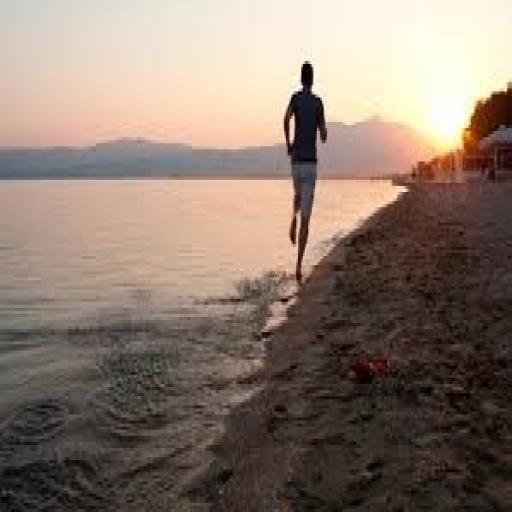running: (281, 55, 330, 286)
